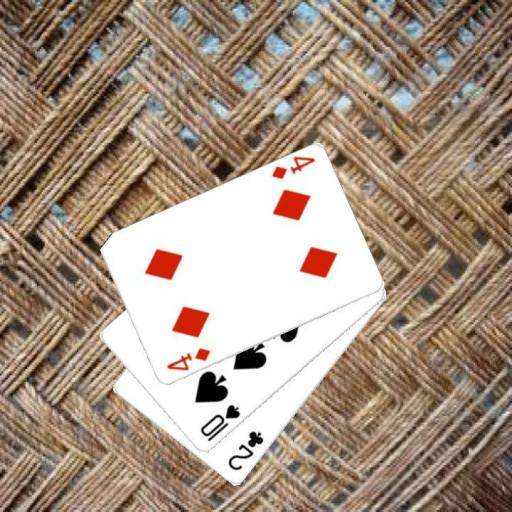10S: (197, 401, 242, 444)
2C: (225, 428, 265, 473)
4D: (163, 345, 212, 373), (268, 154, 317, 181)
